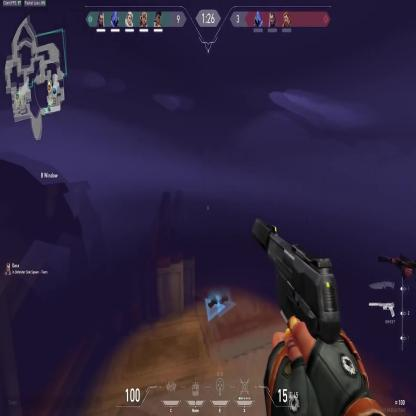enemy: (366, 206, 414, 370)
